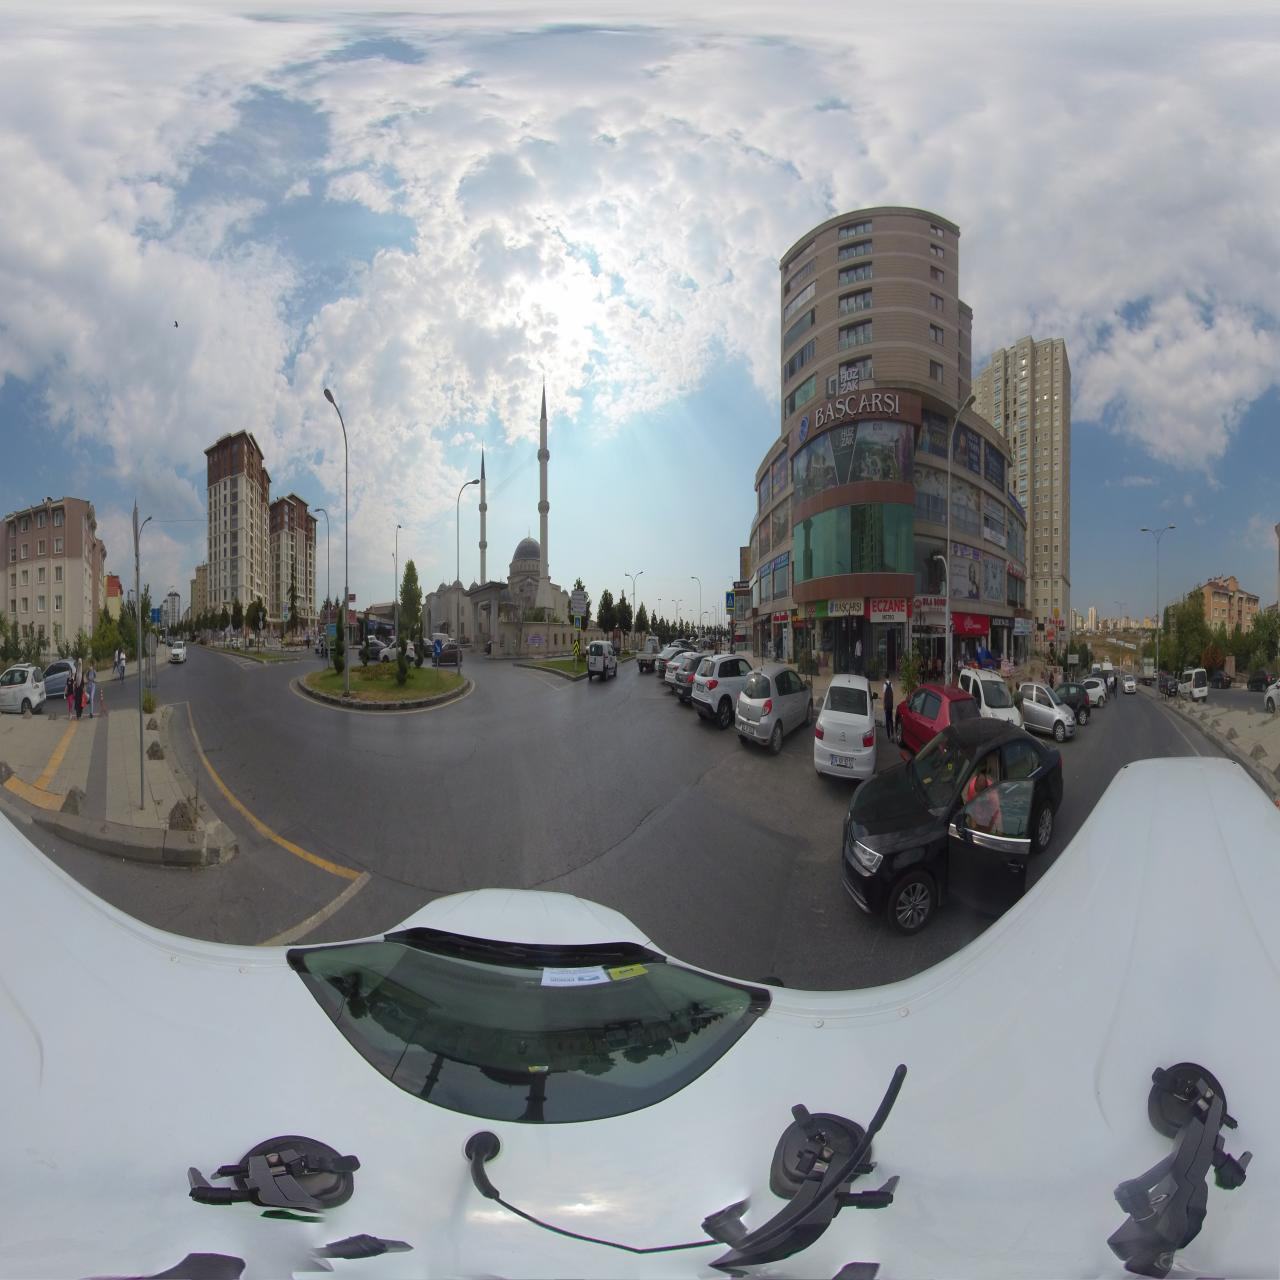SignStore: (870, 598, 907, 622), (953, 612, 989, 634), (829, 598, 864, 617), (1008, 490, 1026, 519), (914, 597, 946, 612), (1007, 560, 1027, 583), (806, 600, 828, 618), (772, 551, 789, 571), (1014, 618, 1033, 634), (990, 615, 1015, 627), (772, 610, 789, 622), (758, 561, 770, 578), (734, 580, 749, 588)
